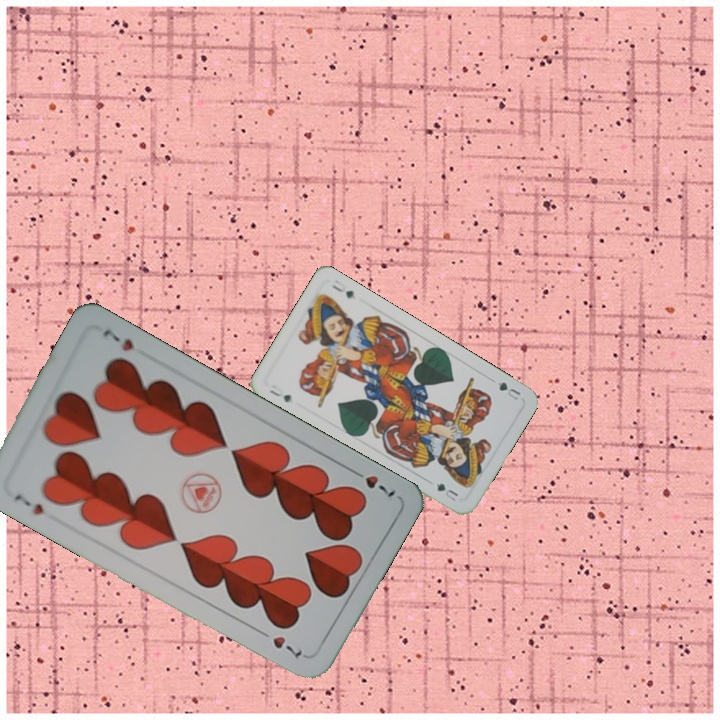GU: (494, 378, 523, 402), (266, 386, 294, 405)
H7: (346, 465, 399, 500), (10, 489, 47, 518)
